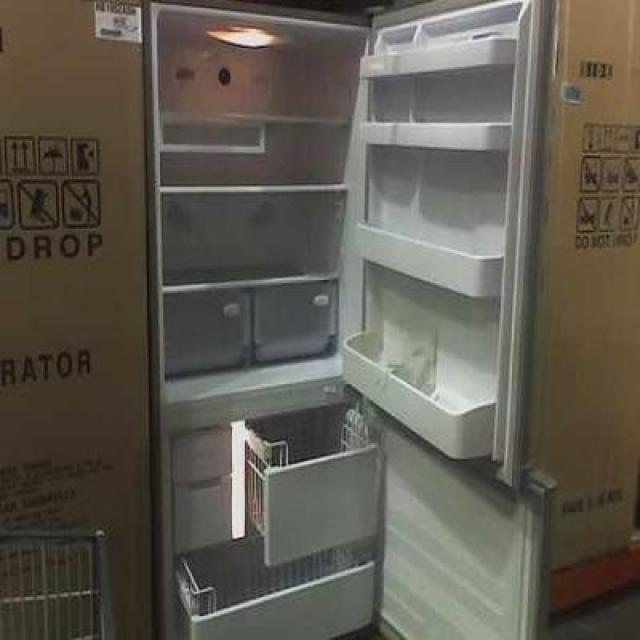refrigerator: (147, 1, 498, 640)
